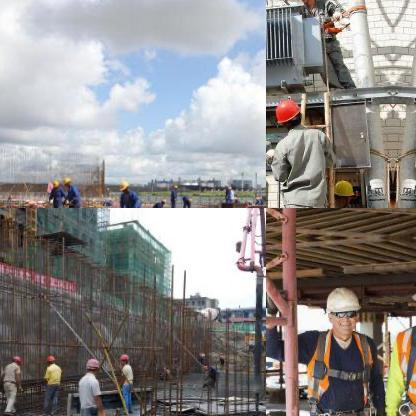Helmet: (321, 282, 363, 335), (272, 96, 300, 129), (331, 177, 354, 207), (84, 356, 98, 374), (117, 177, 129, 191), (60, 172, 72, 186), (295, 0, 317, 7), (118, 351, 128, 363), (9, 354, 20, 364), (50, 177, 58, 189), (46, 354, 54, 364)
